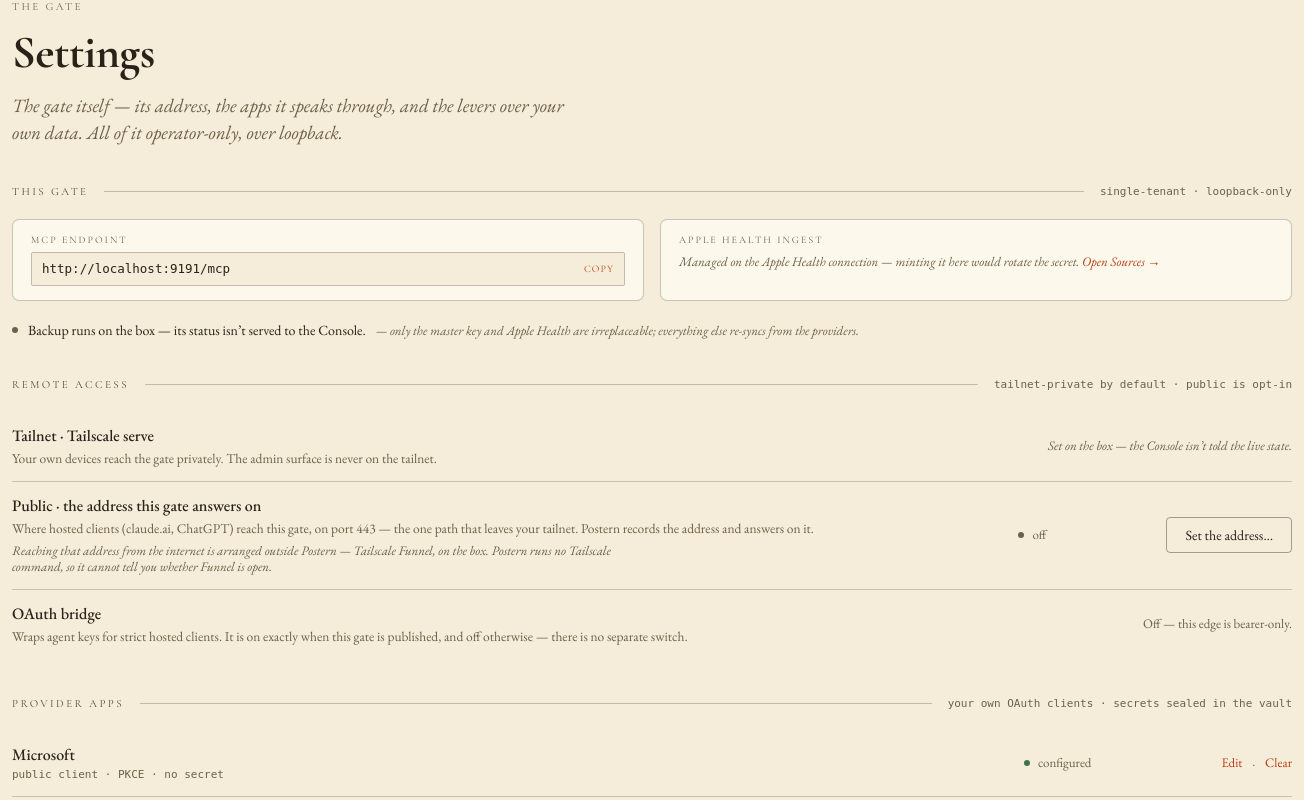
Test: Remote access — publishing this gate to the internet › the address field says what it wants before anything is pasted
Click the button "Set the address…": (1229, 535) [1166,517,1292,553]
(page scrolled)
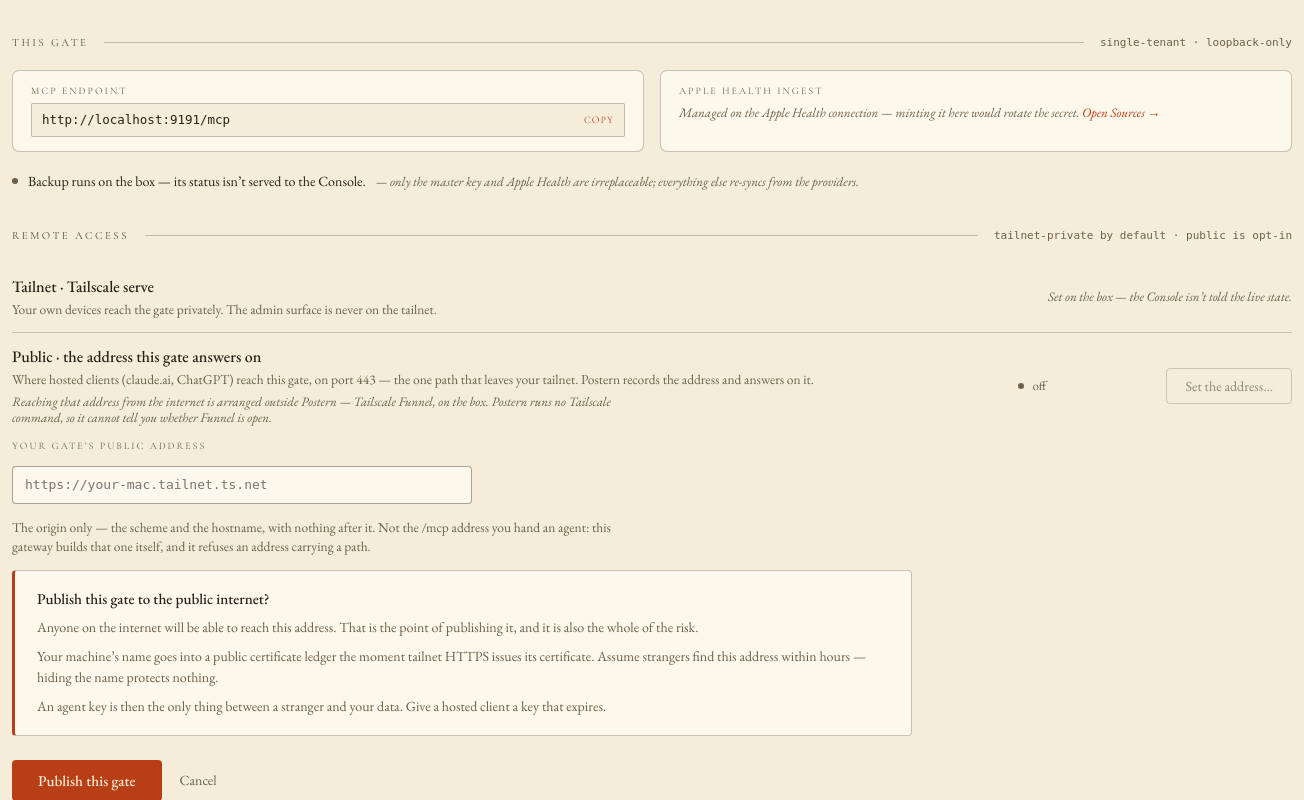
Result: the text "The origin only — the scheme and the hostname, with nothing after it. Not the /mcp address you hand an agent: this gatew" is shown at [12,518,611,555]
